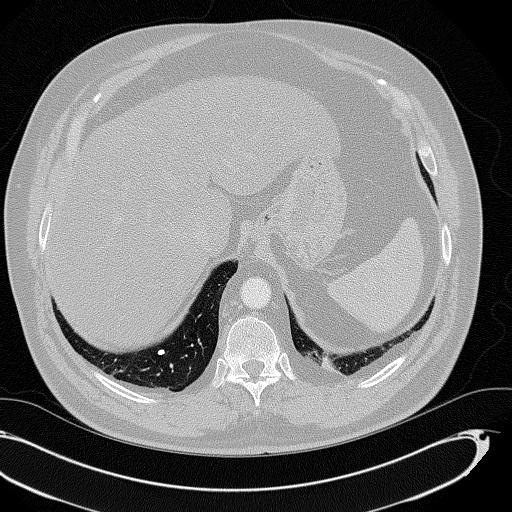nodule: (155, 346, 167, 358)
